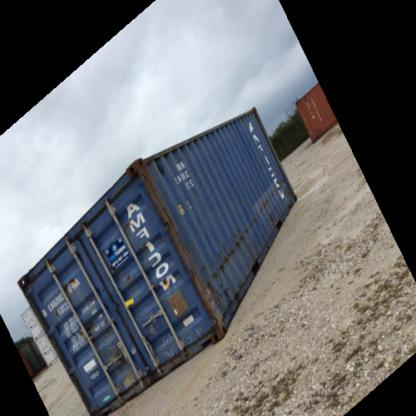Damage: (135, 160, 184, 240), (193, 270, 228, 326), (223, 215, 248, 264), (105, 330, 131, 366), (260, 189, 278, 223), (55, 274, 85, 292), (78, 312, 96, 339), (153, 273, 176, 294), (116, 262, 134, 284), (43, 300, 61, 318)
